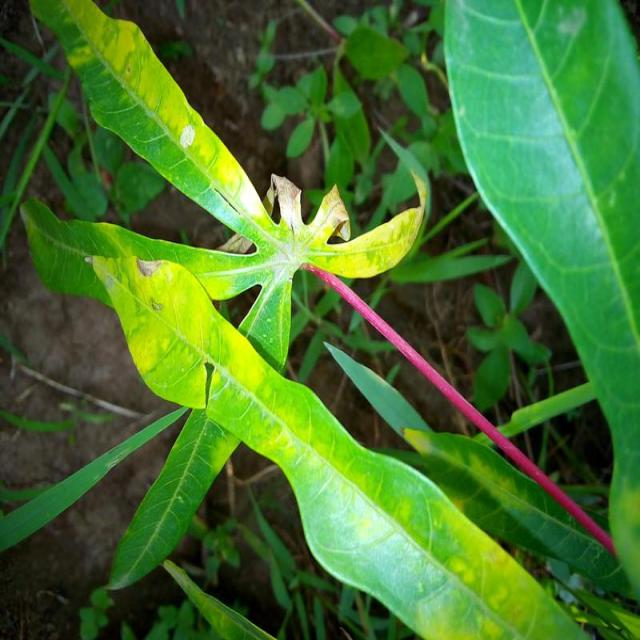cassava leaf: (13, 0, 627, 638), (440, 0, 639, 599)
